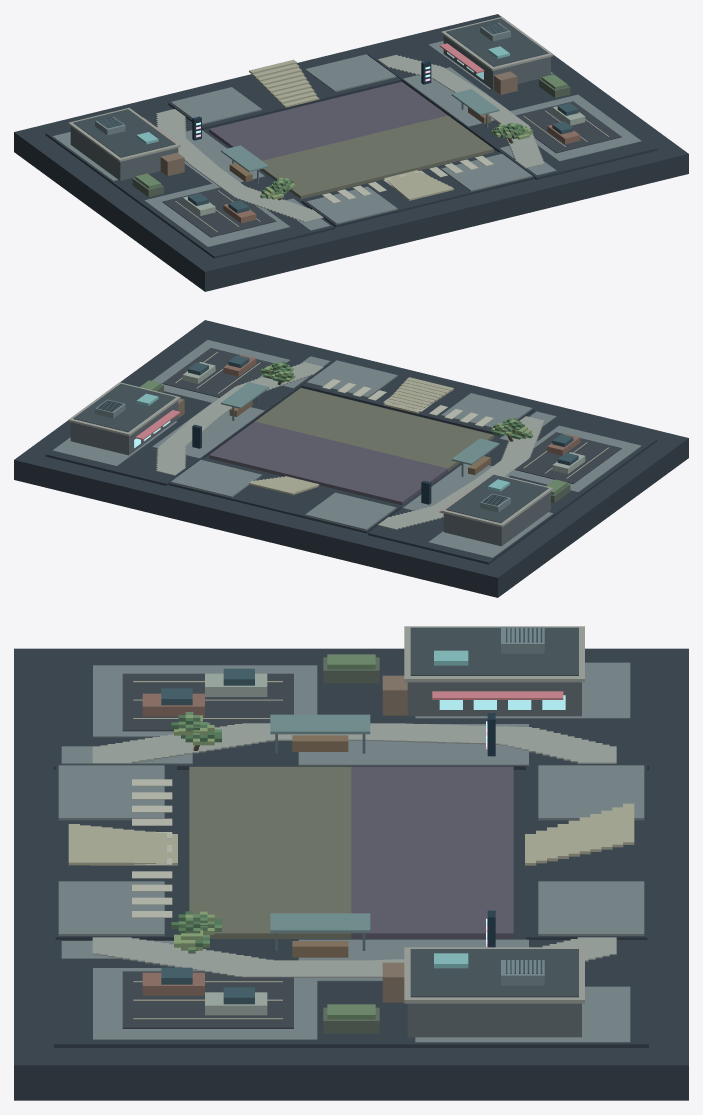
Rendered from preview-metropolis.glb.
3 renders of one model, top to bottom at view 1: azimuth 30°, elevation 25°; view 2: azimuth 150°, elevation 25°; view 3: azimuth 270°, elevation 25°, orthographic. The views are drawn at different scales.
Visible parts, largest first — view 1: Miniature_Plinth, Miniature_Original_Board, Miniature_Approach_Flanking_Terraces, Miniature_East_Landscape_Terrain_Base, Miniature_Landscape_Terrain_Base, Miniature_Approach_Terrain, Miniature_East_Landscape_Terrain_Fields, Miniature_Landscape_Terrain_Fields, Miniature_Landscape_Street_Sidewalk, Miniature_Approach_Entry_Stair, Miniature_East_Landscape_Street_Sidewalk, Miniature_Landscape_Parking_Asphalt (+16 smaller); view 2: Miniature_Plinth, Miniature_Original_Board, Miniature_Approach_Flanking_Terraces, Miniature_East_Landscape_Terrain_Base, Miniature_Approach_Terrain, Miniature_Landscape_Terrain_Base, Miniature_East_Landscape_Terrain_Fields, Miniature_Landscape_Terrain_Fields, Miniature_East_Landscape_Street_Sidewalk, Miniature_Landscape_Street_Sidewalk, Miniature_Approach_Entry_Stair, Miniature_Landscape_Parking_Asphalt (+14 smaller); view 3: Miniature_Plinth, Miniature_Original_Board, Miniature_Approach_Flanking_Terraces, Miniature_East_Landscape_Terrain_Base, Miniature_Landscape_Terrain_Base, Miniature_Landscape_Terrain_Fields, Miniature_East_Landscape_Terrain_Fields, Miniature_Approach_Terrain, Miniature_Landscape_Street_Sidewalk, Miniature_Approach_Entry_Stair, Miniature_East_Landscape_Street_Sidewalk, Miniature_Landscape_Flat_Roof_Surface (+28 smaller).
Part boxes in pixels (bbox=[...]): Miniature_Plinth: bbox=[14, 14, 688, 291]; Miniature_Original_Board: bbox=[209, 82, 493, 199]; Miniature_Approach_Flanking_Terraces: bbox=[170, 54, 532, 224]; Miniature_East_Landscape_Terrain_Base: bbox=[368, 36, 657, 179]; Miniature_Landscape_Terrain_Base: bbox=[45, 104, 334, 258]; Miniature_Approach_Terrain: bbox=[168, 55, 534, 227]; Miniature_East_Landscape_Terrain_Fields: bbox=[403, 41, 641, 175]; Miniature_Landscape_Terrain_Fields: bbox=[52, 130, 330, 246]; Miniature_Landscape_Street_Sidewalk: bbox=[156, 109, 323, 222]; Miniature_Approach_Entry_Stair: bbox=[249, 59, 453, 200]; Miniature_East_Landscape_Street_Sidewalk: bbox=[377, 54, 544, 168]; Miniature_Landscape_Parking_Asphalt: bbox=[162, 187, 276, 237]; Miniature_Plinth: bbox=[14, 320, 688, 597]; Miniature_Original_Board: bbox=[209, 388, 493, 505]; Miniature_Approach_Flanking_Terraces: bbox=[170, 360, 532, 530]; Miniature_East_Landscape_Terrain_Base: bbox=[45, 331, 334, 485]; Miniature_Approach_Terrain: bbox=[168, 361, 534, 533]; Miniature_Landscape_Terrain_Base: bbox=[368, 410, 657, 564]; Miniature_East_Landscape_Terrain_Fields: bbox=[52, 340, 330, 466]; Miniature_Landscape_Terrain_Fields: bbox=[403, 411, 641, 558]; Miniature_East_Landscape_Street_Sidewalk: bbox=[156, 362, 323, 475]; Miniature_Landscape_Street_Sidewalk: bbox=[378, 416, 544, 529]; Miniature_Approach_Entry_Stair: bbox=[249, 377, 453, 495]; Miniature_Landscape_Parking_Asphalt: bbox=[515, 432, 621, 483]; Miniature_Plinth: bbox=[14, 648, 688, 1100]; Miniature_Original_Board: bbox=[189, 766, 513, 938]; Miniature_Approach_Flanking_Terraces: bbox=[58, 765, 644, 935]; Miniature_East_Landscape_Terrain_Base: bbox=[54, 940, 648, 1047]; Miniature_Landscape_Terrain_Base: bbox=[54, 662, 648, 769]; Miniature_Landscape_Terrain_Fields: bbox=[61, 662, 630, 765]; Miniature_East_Landscape_Terrain_Fields: bbox=[61, 939, 630, 1042]; Miniature_Approach_Terrain: bbox=[55, 766, 647, 939]; Miniature_Landscape_Street_Sidewalk: bbox=[92, 723, 616, 763]; Miniature_Approach_Entry_Stair: bbox=[68, 803, 634, 865]; Miniature_East_Landscape_Street_Sidewalk: bbox=[92, 937, 616, 977]; Miniature_Landscape_Flat_Roof_Surface: bbox=[410, 627, 578, 675].
Bounding box in the file's own units: 7.6 × 0.7796 × 5.2.
